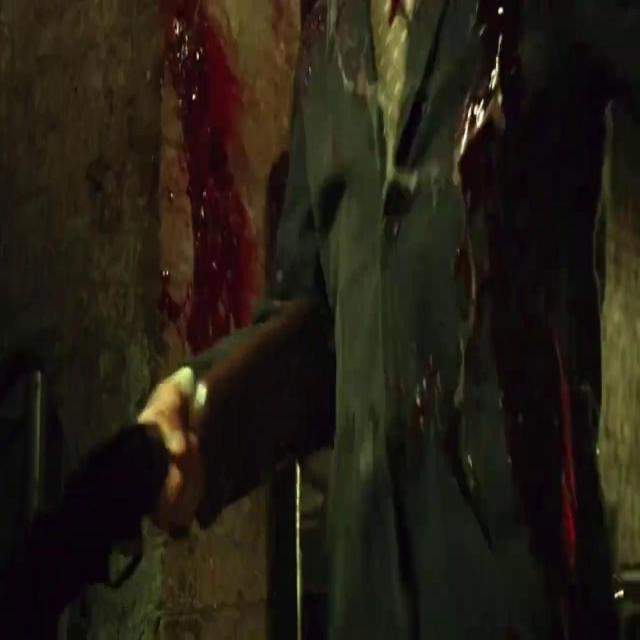flood: (147, 4, 321, 446)
